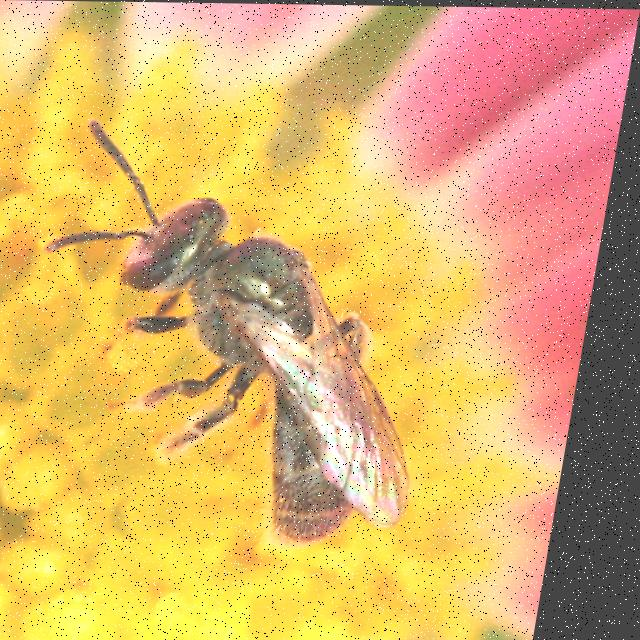Lasioglossum: (25, 114, 494, 555)
